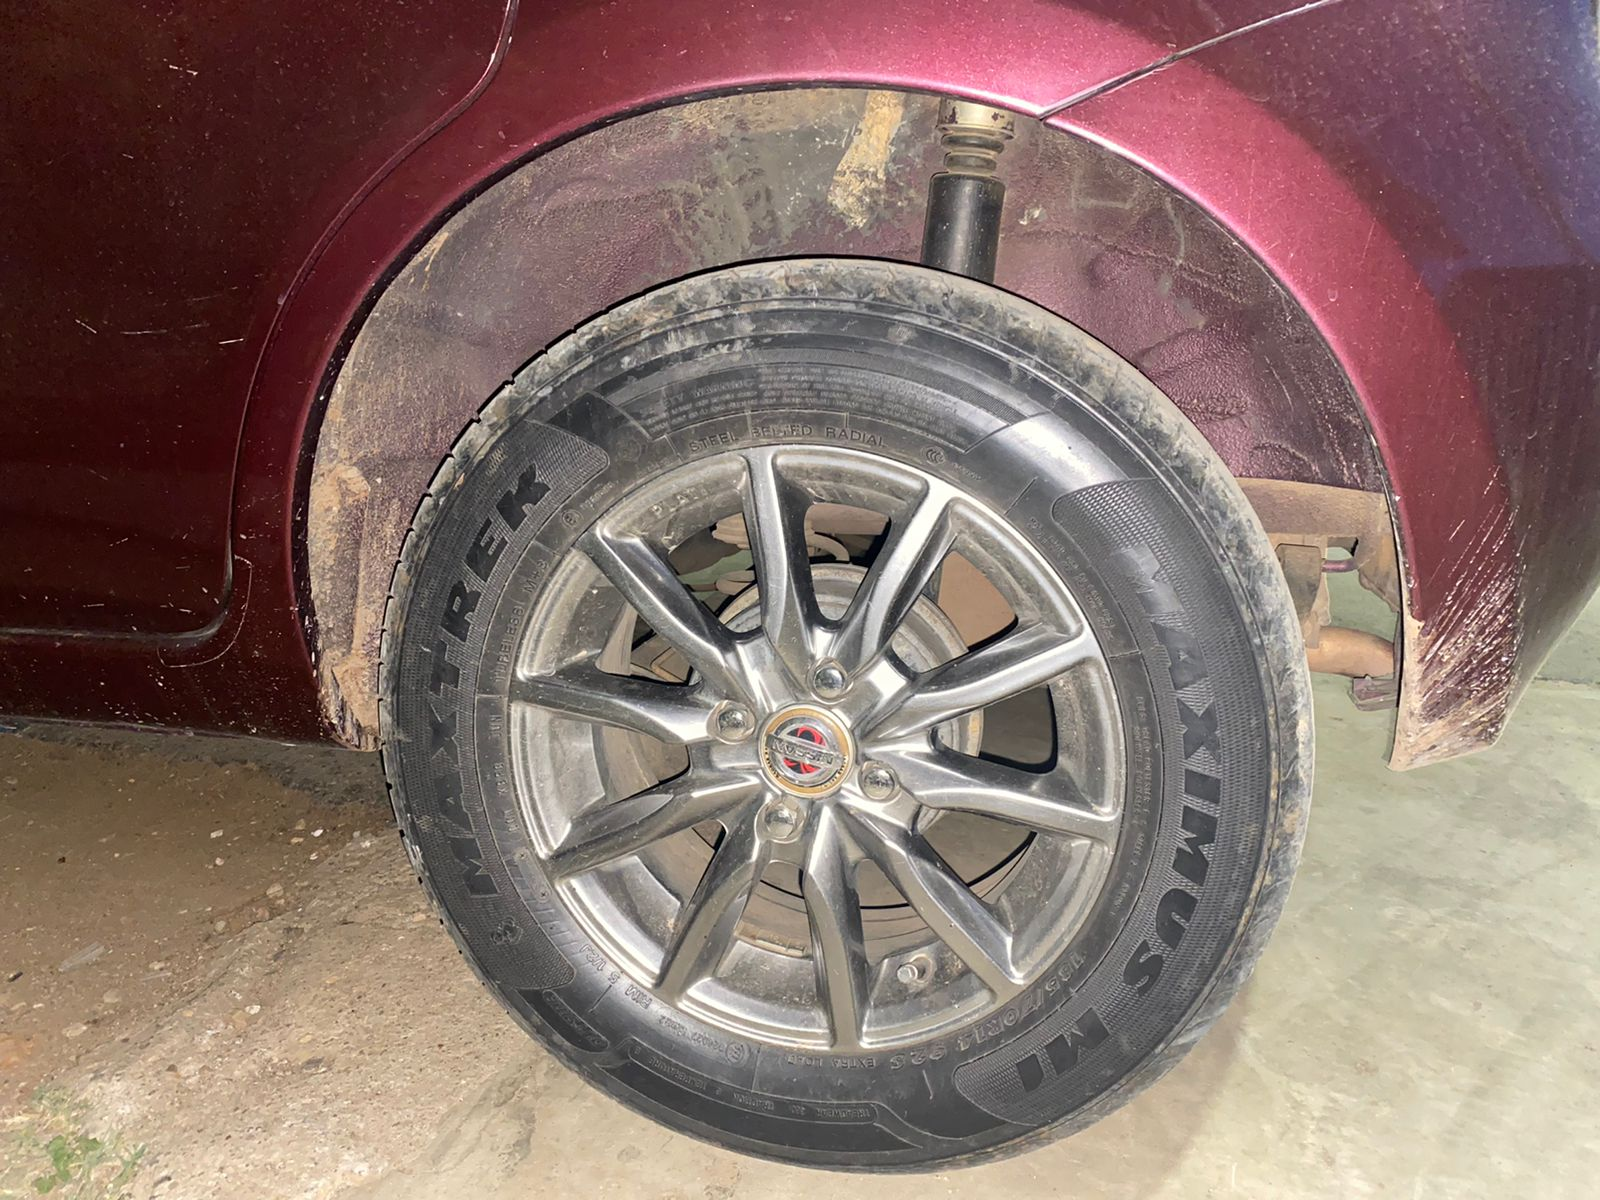wheel: (379, 260, 1317, 1174)
